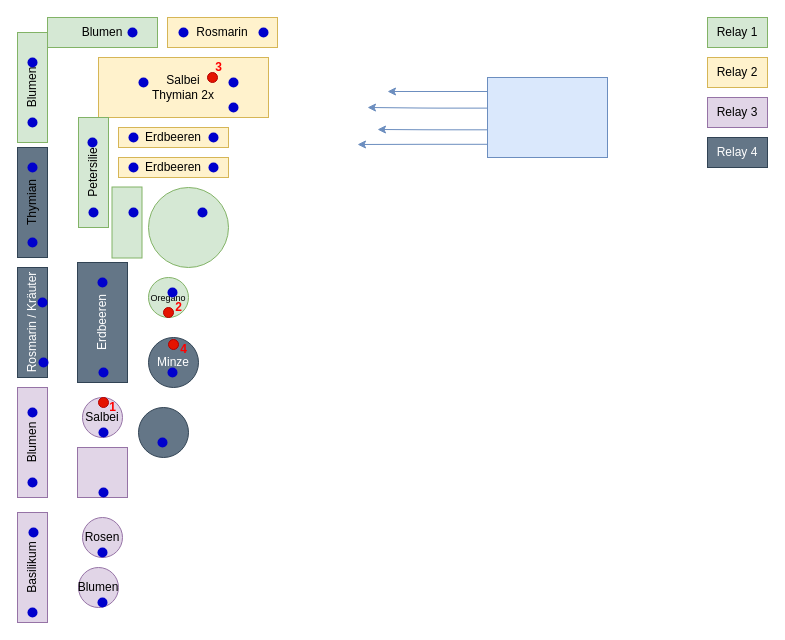
Some shapes in this 785 by 640 pixel diagram are drawn without their labels. Here are the shapes that lost their labels. From the top down, the centre of each, then its label:
At (x=126, y=222): "Schnittlauch".
At (x=188, y=227): "Blumen (2 Zwiebeln)".
At (x=163, y=432): "Lorbeer".
At (x=102, y=472): "Lavendel".
